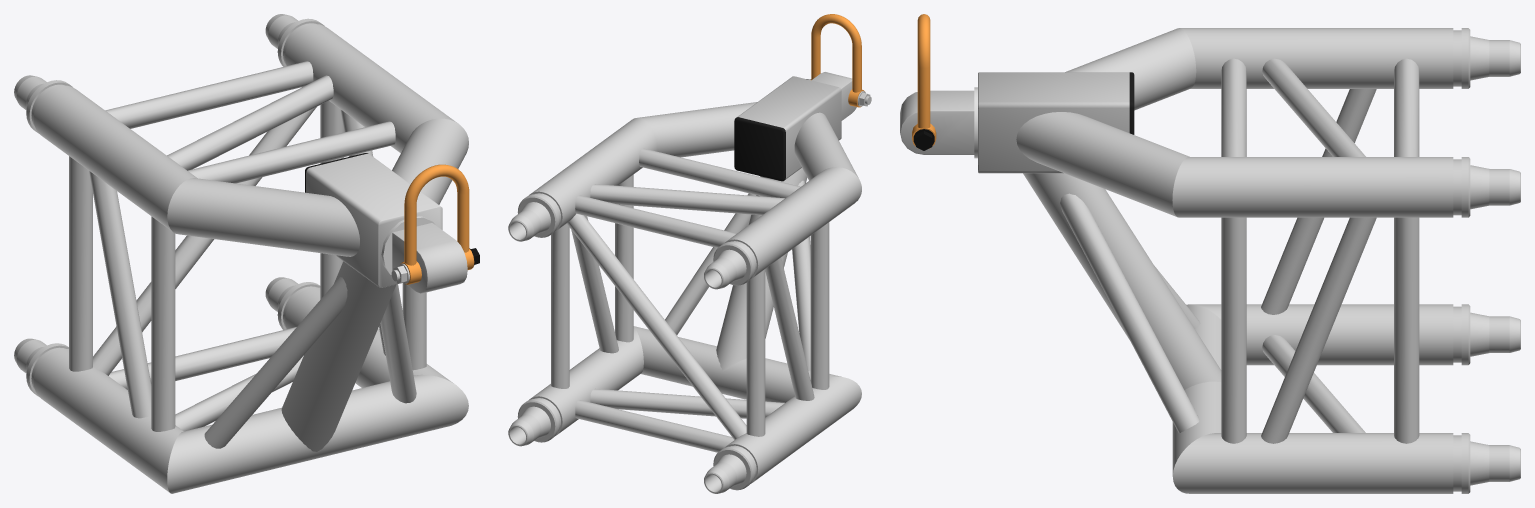
Rendered from MUH-M290-HD_500.glb.
The picture shows the model from 3 angles, left to right: view 1: azimuth 30°, elevation 25°; view 2: azimuth 150°, elevation 25°; view 3: azimuth 270°, elevation 25°; orthographic projection. The views are drawn at different scales.
Visible parts, largest first — view 1: QTV 0.004, Circle.003, MUH-M290-HD|500; view 2: QTV 0.004, MUH-M290-HD|500, Circle.003; view 3: QTV 0.004, Circle.003, MUH-M290-HD|500.
Part boxes in pixels (<box>): QTV 0.004: <box>14,14,468,493</box>; Circle.003: <box>381,216,467,293</box>; MUH-M290-HD|500: <box>391,164,479,284</box>; QTV 0.004: <box>508,76,861,493</box>; MUH-M290-HD|500: <box>806,14,871,107</box>; Circle.003: <box>812,72,856,120</box>; QTV 0.004: <box>978,28,1520,493</box>; Circle.003: <box>900,87,977,158</box>; MUH-M290-HD|500: <box>912,14,936,150</box>.
Bounding box in the file's own units: 0.288 × 0.3556 × 0.4889.
